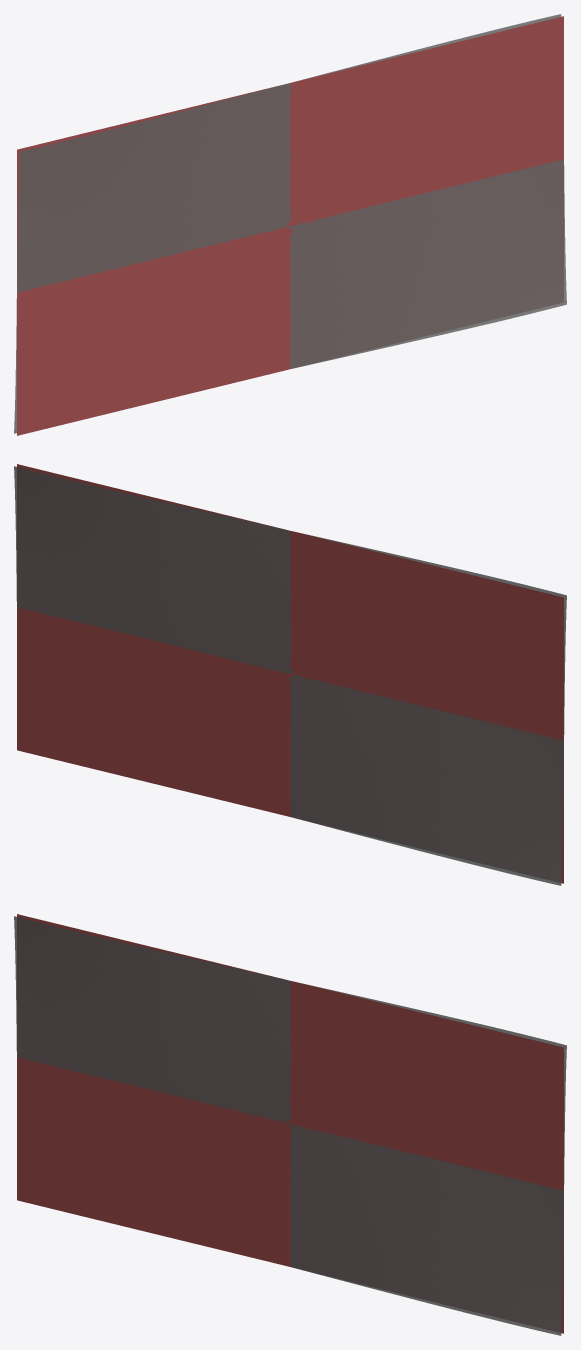
File: warping-box-80-160-10-10-1453.glb
The picture shows the model from 3 angles, top to bottom: view 1: azimuth 30°, elevation 25°; view 2: azimuth 150°, elevation 25°; view 3: azimuth 330°, elevation 25°; orthographic projection.
Parts seen in each view (by area): view 1: undeformed cross-section, cross-section with warping; view 2: undeformed cross-section, cross-section with warping; view 3: undeformed cross-section, cross-section with warping.
Part boxes in pixels (x1,y1,x2,y2): undeformed cross-section: (17, 16, 563, 435); cross-section with warping: (14, 14, 566, 433); undeformed cross-section: (17, 464, 563, 883); cross-section with warping: (14, 466, 566, 885); undeformed cross-section: (17, 914, 563, 1333); cross-section with warping: (14, 916, 566, 1335).
Size of the model in its own units: 0.16 by 0.08 by 0.00336.
